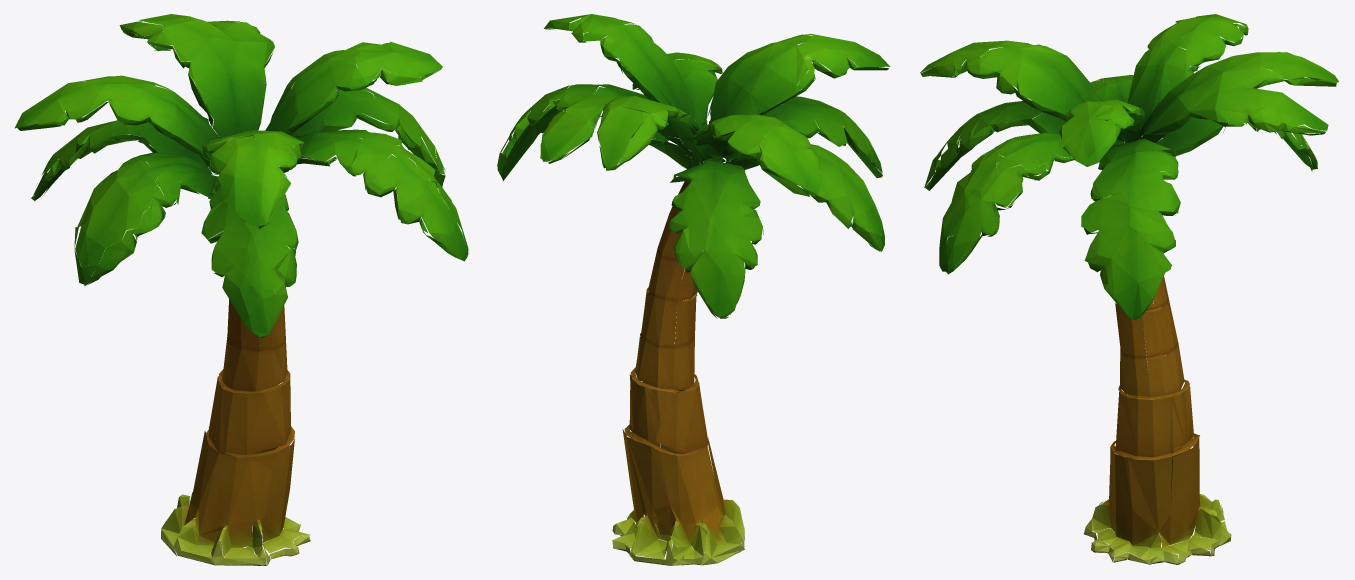
File: palm_tree_.glb
The picture shows the model from 3 angles, left to right: view 1: azimuth 30°, elevation 25°; view 2: azimuth 150°, elevation 25°; view 3: azimuth 270°, elevation 25°; orthographic projection. The views are drawn at different scales.
Visible parts, largest first — view 1: geometry_0; view 2: geometry_0; view 3: geometry_0.
Boxes of the visible parts, box(x1,y1,x2,y2) form: geometry_0: box(15, 14, 468, 565); geometry_0: box(497, 14, 890, 565); geometry_0: box(920, 14, 1338, 564).
Bounding box in the file's own units: 0.8145 × 1 × 0.7956.
Materials: 1 (1 with a texture image).
